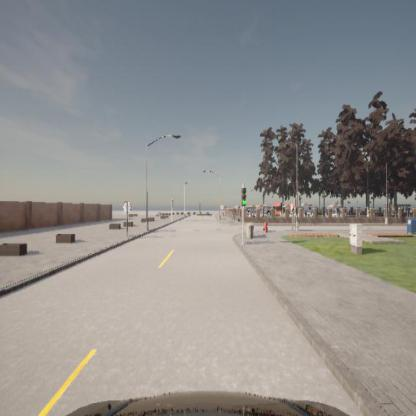traffic_light_green: (241, 187, 247, 206)
